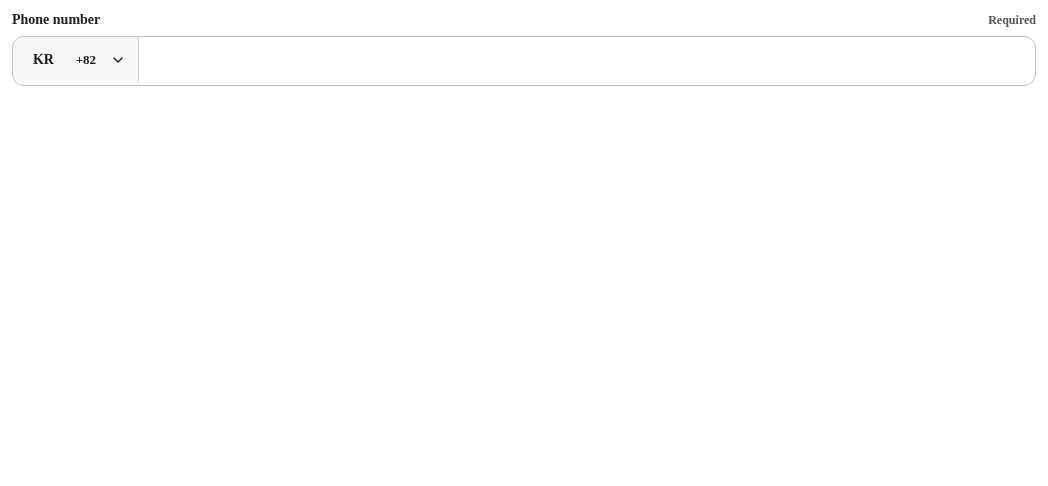
RecipientPhoneField › selects with the keyboard and restores focus to the combobox
Press ArrowDown in the dropdown named "Country calling code", box x1=13 y1=37 x2=139 y2=83
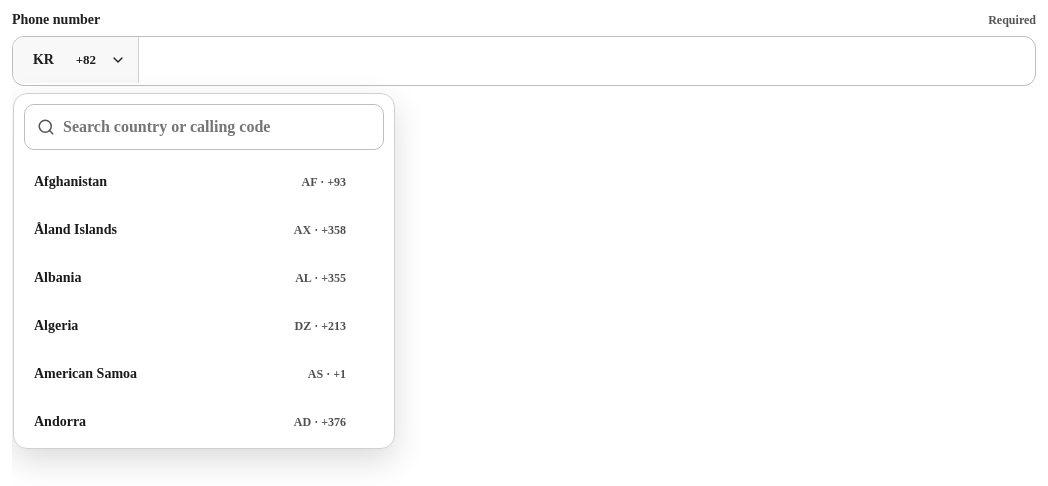
Type "Japan" into the field with placeholder "Search country or calling code" at (217,127), box x1=63 y1=105 x2=371 y2=149
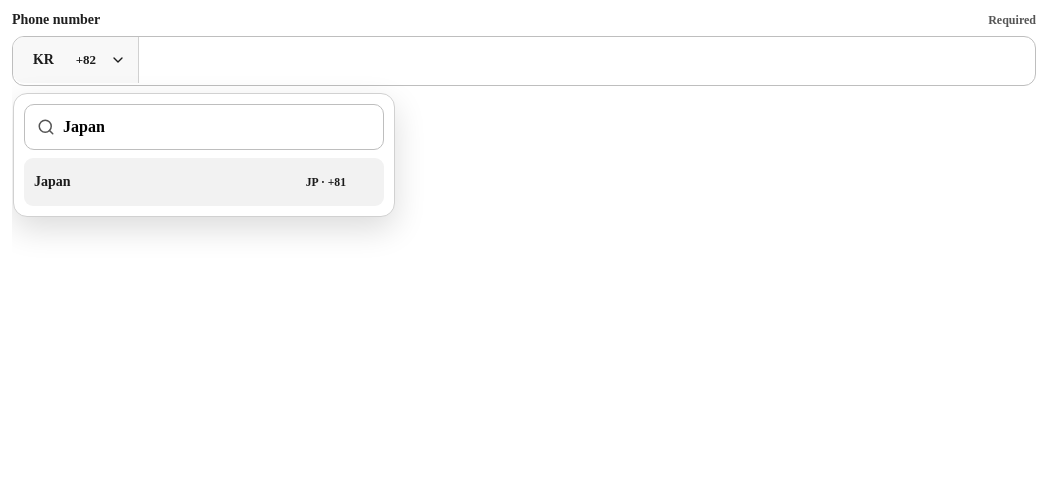
Press Enter in the field with placeholder "Search country or calling code", box x1=63 y1=105 x2=371 y2=149
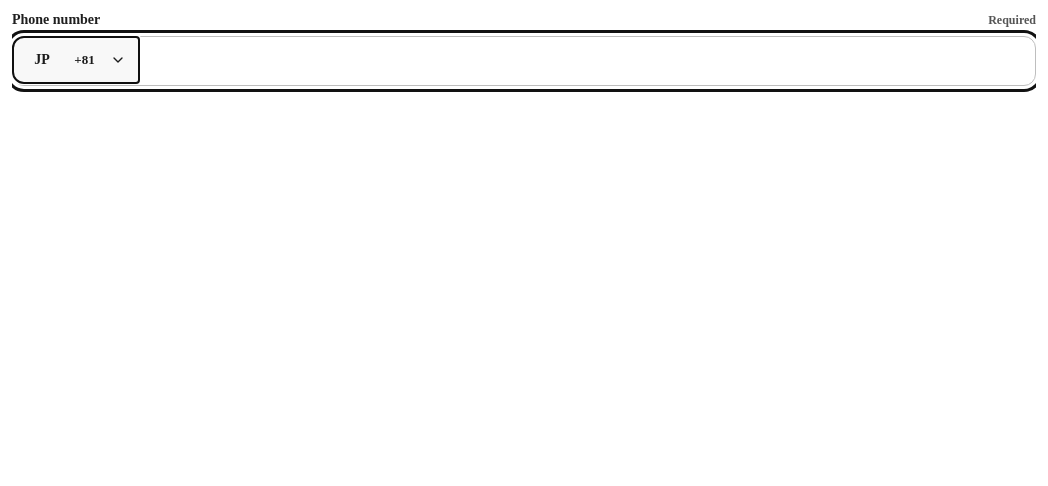
Result: the dropdown named "Country calling code" shows "+81" at x1=13 y1=37 x2=139 y2=83
